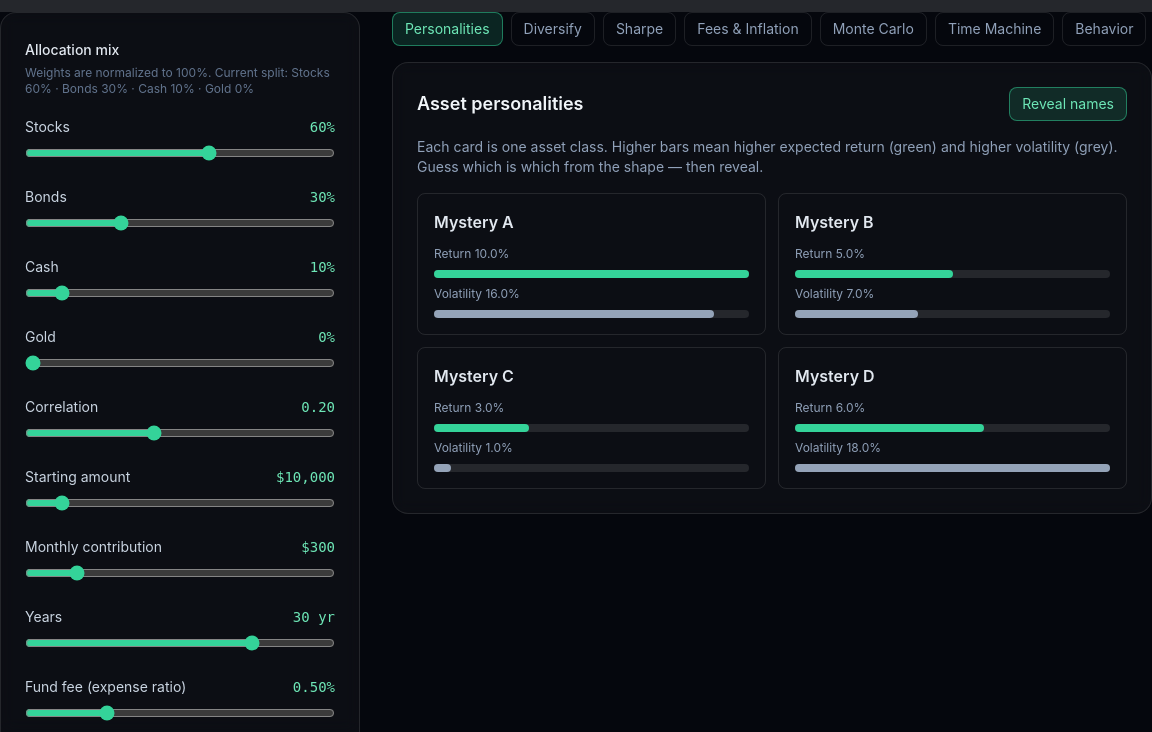
Scenario: PortfolioSandbox — time machine lens › replays the mix through a chosen historical start
What coordinates should you click on to do the following:
click the tab "Time Machine"
I would click on:
 (995, 29)
Its box is [935,12,1054,46].
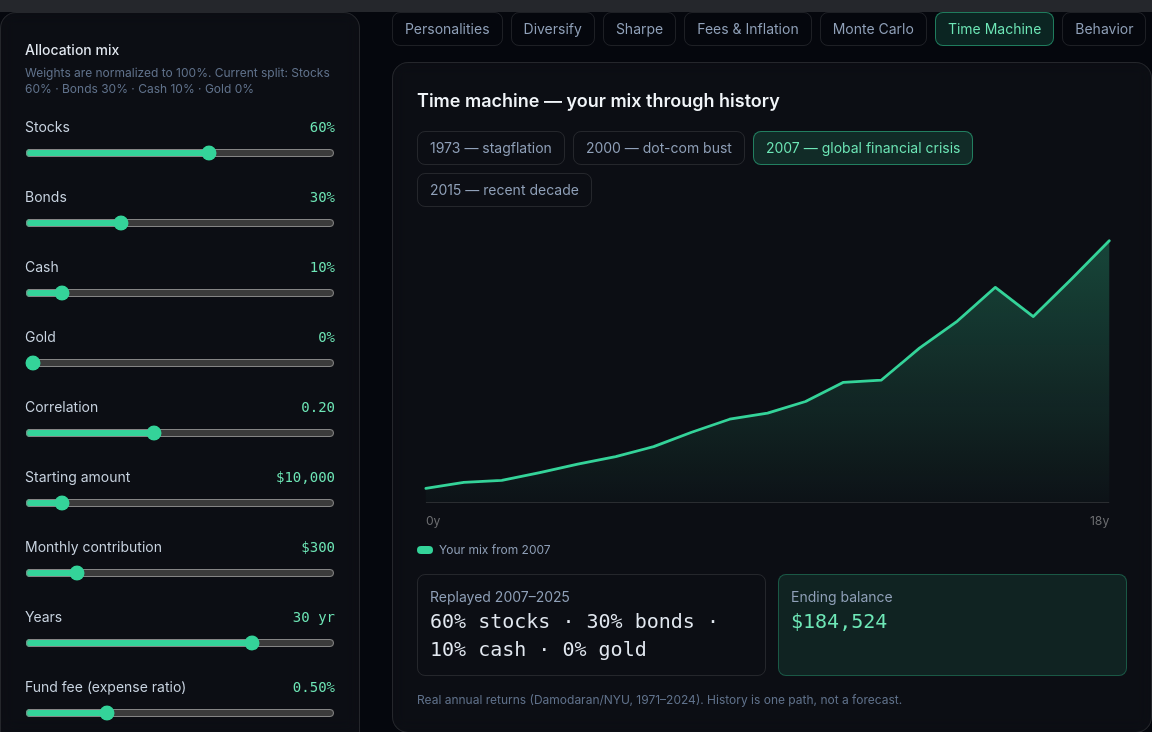
What coordinates should you click on to do the following:
click the button "1973 — stagflation"
I would click on:
 (491, 148)
Its box is [417,131,565,165].
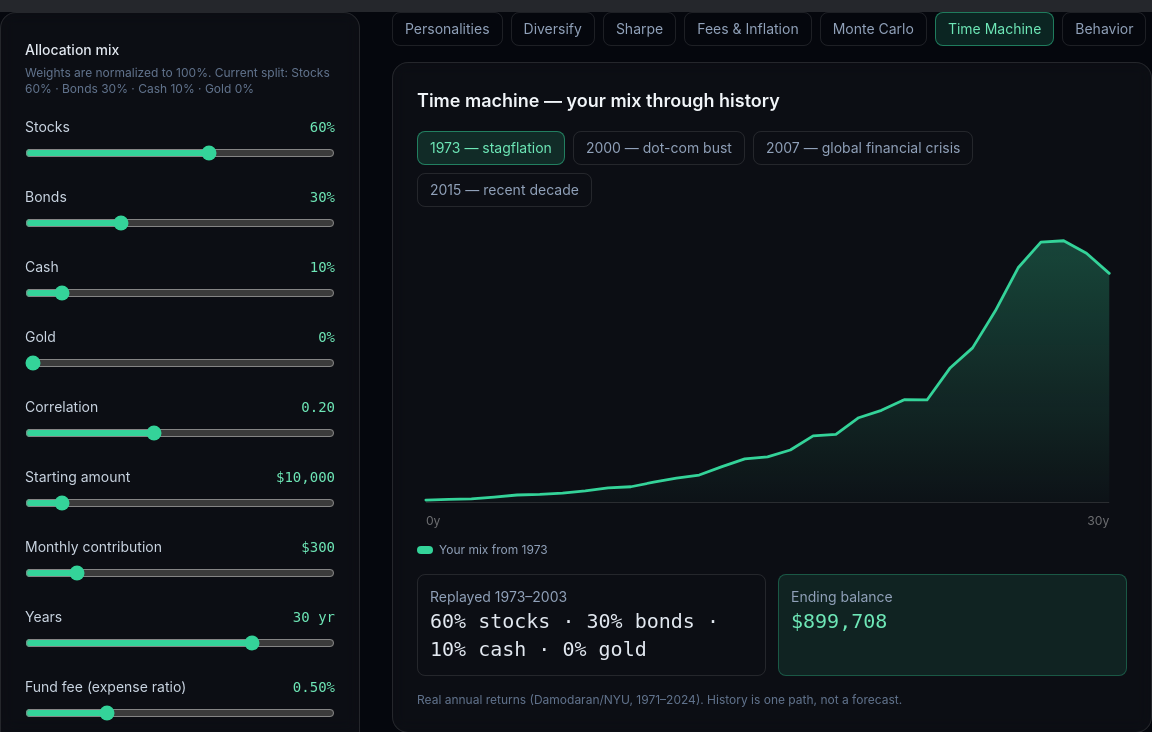
Expected: the text "Ending balance" is shown, [791,588,893,605]
Expected: the picture named "from 1973" is shown, [417,223,1127,534]
